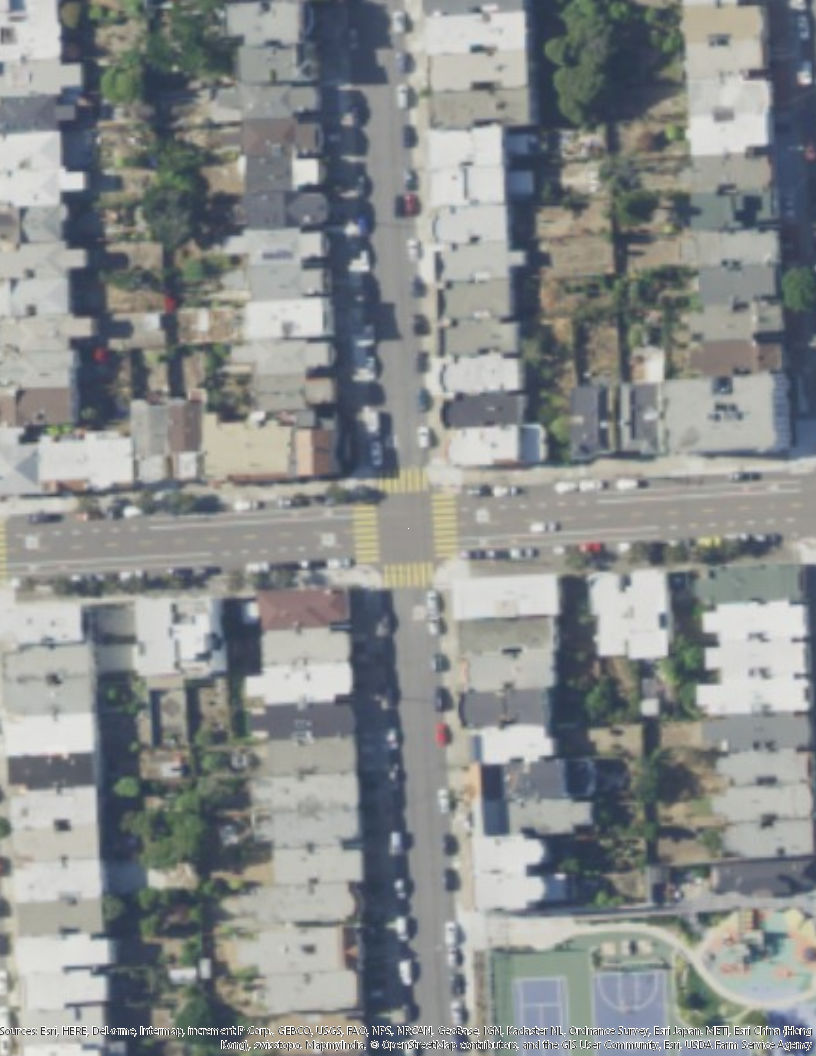zebracross: (430, 493, 457, 556), (354, 499, 379, 567), (379, 465, 430, 494), (386, 559, 437, 586)
